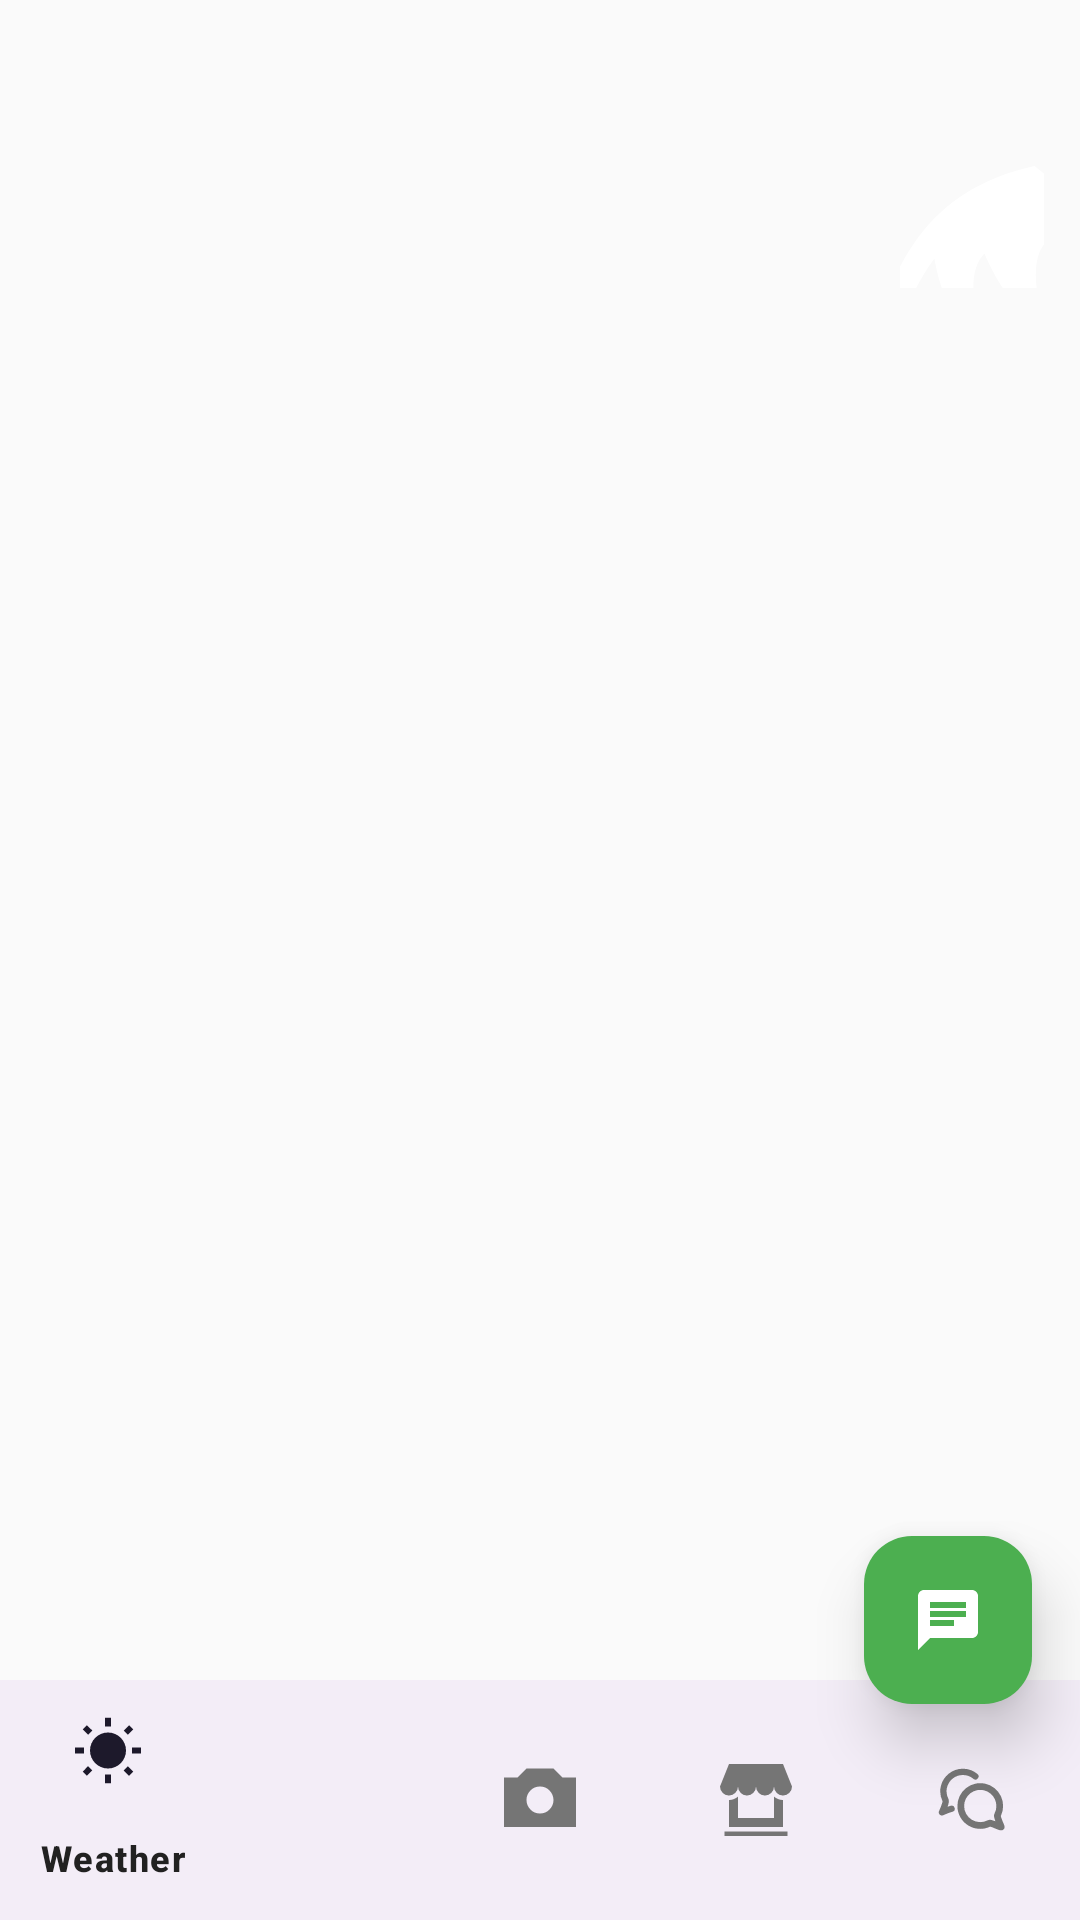

Icons on this 1080px×1920px Android screen, each with the point to tap as (x,y):
Open chat: (948,1620)
